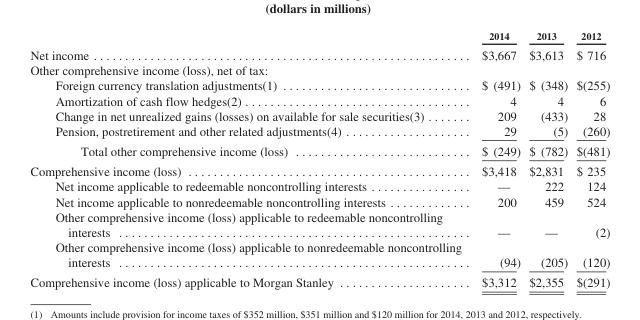table: (29, 29, 609, 289)
table column: (29, 29, 471, 289), (471, 29, 524, 289), (524, 29, 571, 289), (571, 29, 609, 289)
table column header: (29, 29, 609, 44)
table projected row header: (29, 62, 609, 77)
table row: (29, 239, 609, 271), (29, 208, 609, 239), (29, 140, 609, 160), (29, 44, 609, 62), (29, 122, 609, 140), (29, 160, 609, 178), (29, 271, 609, 289), (29, 29, 609, 44), (29, 62, 609, 77), (29, 77, 609, 92), (29, 92, 609, 107), (29, 107, 609, 122), (29, 178, 609, 193), (29, 193, 609, 208)
